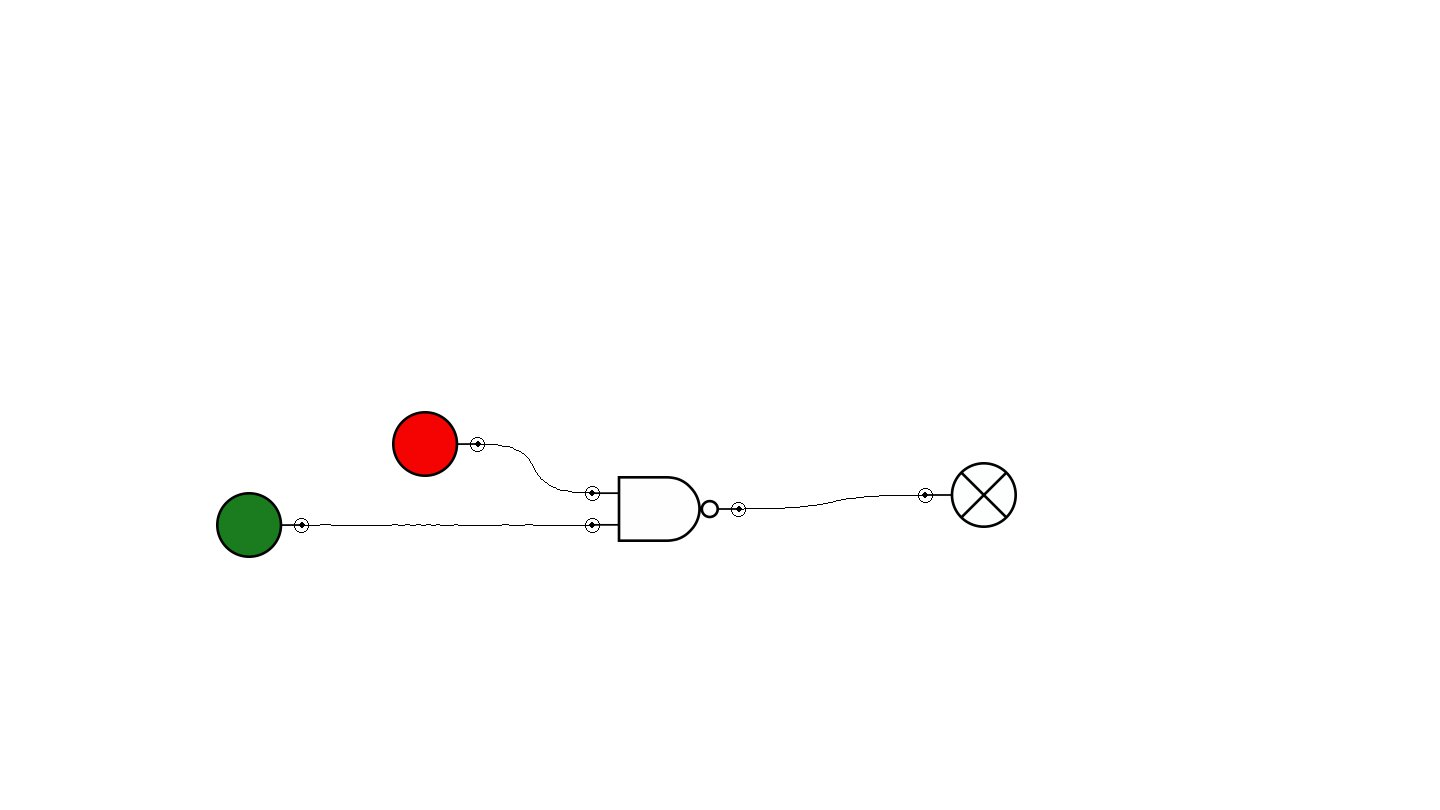bulb: (918, 462, 1017, 528)
nand: (585, 476, 746, 542)
switch_False: (392, 411, 485, 477)
switch_True: (216, 492, 309, 558)
